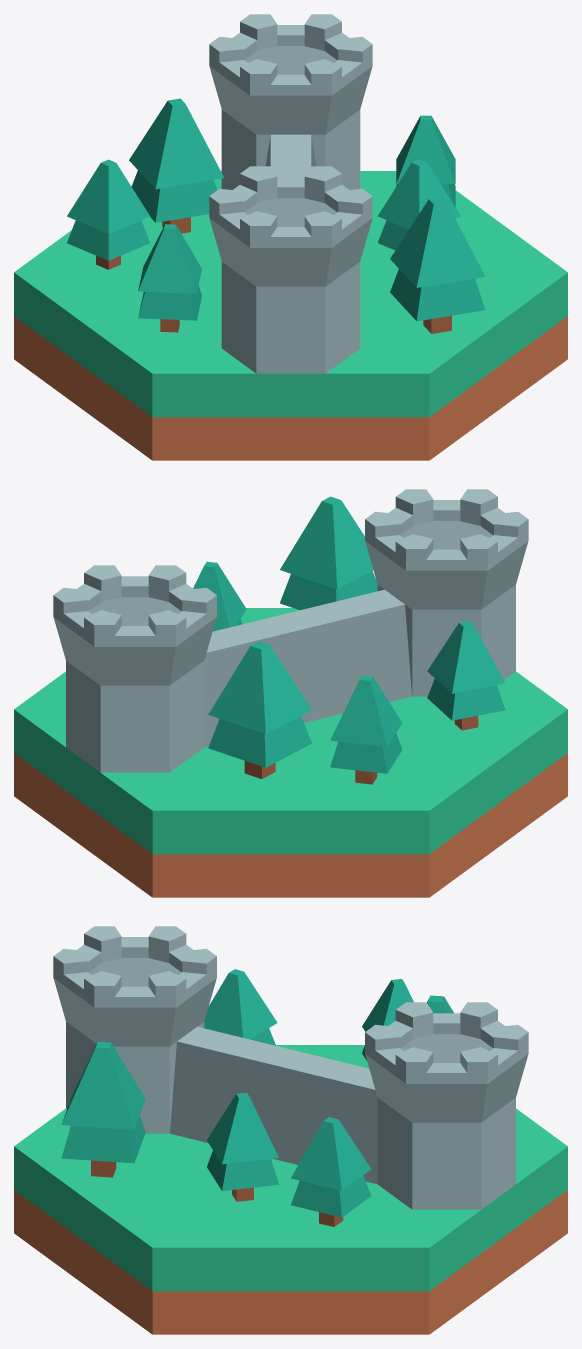
The model's file is building_wall.dae.
3 renders of one model, top to bottom at view 1: azimuth 30°, elevation 25°; view 2: azimuth 150°, elevation 25°; view 3: azimuth 270°, elevation 25°, orthographic.
Parts seen in each view (by area): view 1: building_wall, tower (×2), tree (×6), wall; view 2: building_wall, tower (×2), tree (×5), wall; view 3: building_wall, tower (×2), tree (×5), wall.
Part boxes in pixels (x1,y1,x2,y2): building_wall: [14, 171, 567, 460]; tower (×2): [209, 14, 372, 373]; tree (×6): [67, 98, 485, 333]; wall: [265, 134, 316, 177]; building_wall: [14, 608, 567, 897]; tower (×2): [53, 489, 528, 772]; tree (×5): [193, 496, 505, 784]; wall: [204, 589, 411, 747]; building_wall: [14, 1045, 567, 1334]; tower (×2): [53, 926, 528, 1209]; tree (×5): [61, 969, 413, 1226]; wall: [170, 1026, 377, 1184].
Bounding box in the file's own units: 1 × 0.55 × 1.15.
